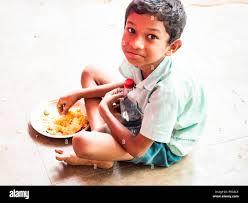Human: (60, 0, 206, 174)
